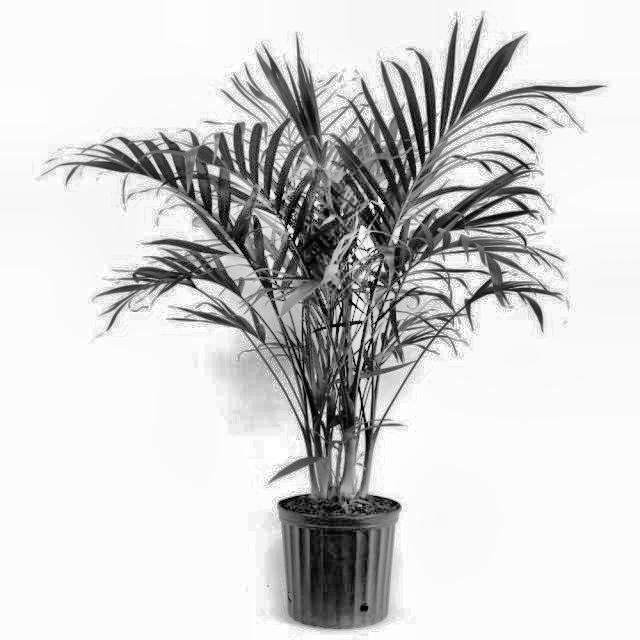plants: (67, 49, 603, 626)
